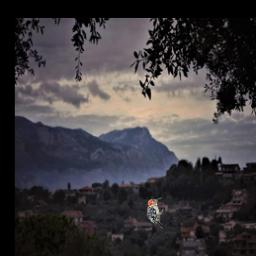Woodpecker: (145, 197, 163, 230)
